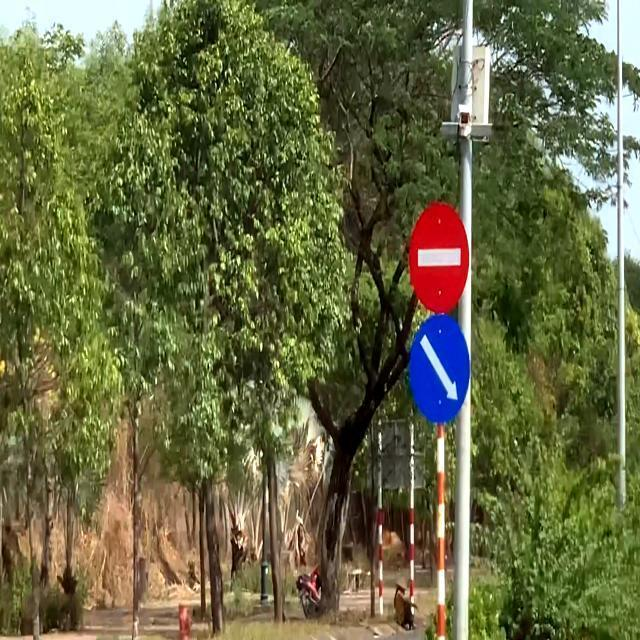102-cam-di-nguoc-chieu: (408, 201, 470, 314)
302a-huong-phai-di-vong-chuong-ngai-vat-1: (408, 315, 470, 423)
